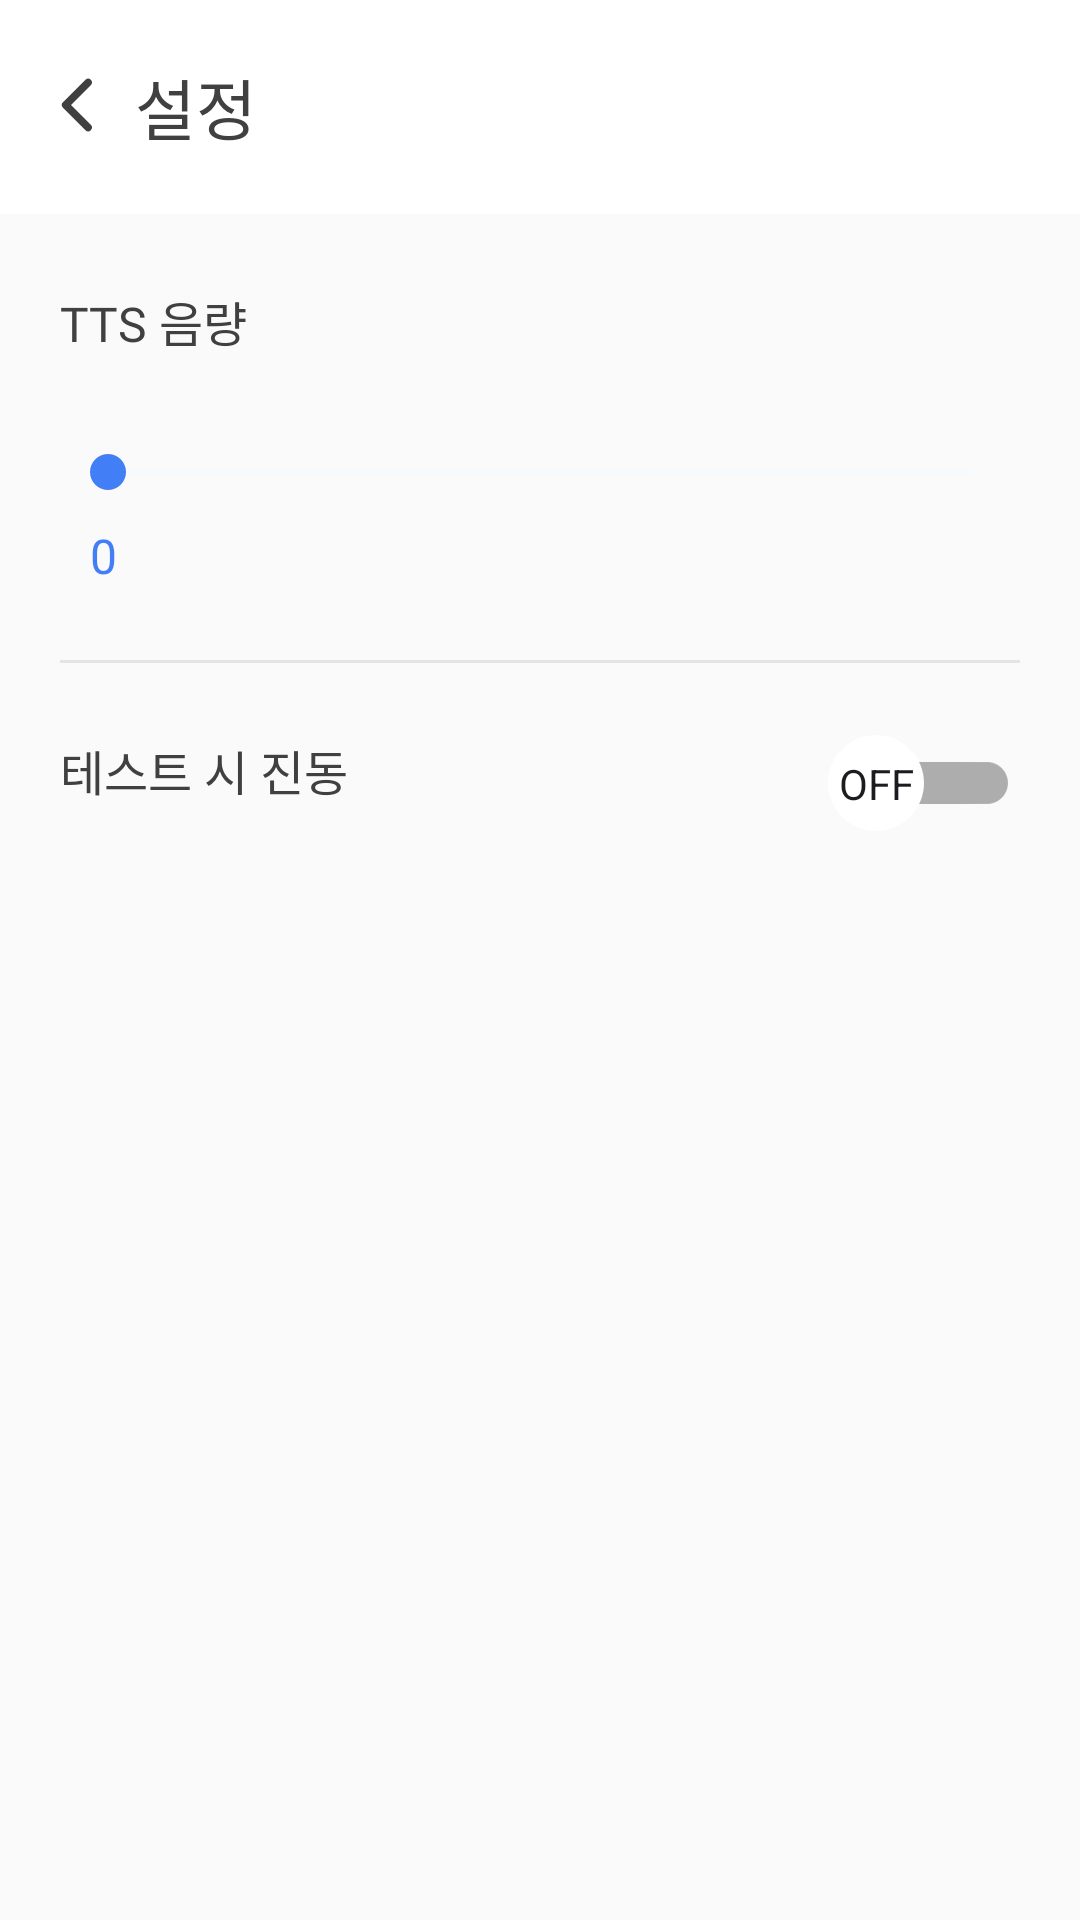

Icons on this 1080 x 1920 Android screen, each with the point to tap as point (x, y):
back: point (76, 105)
